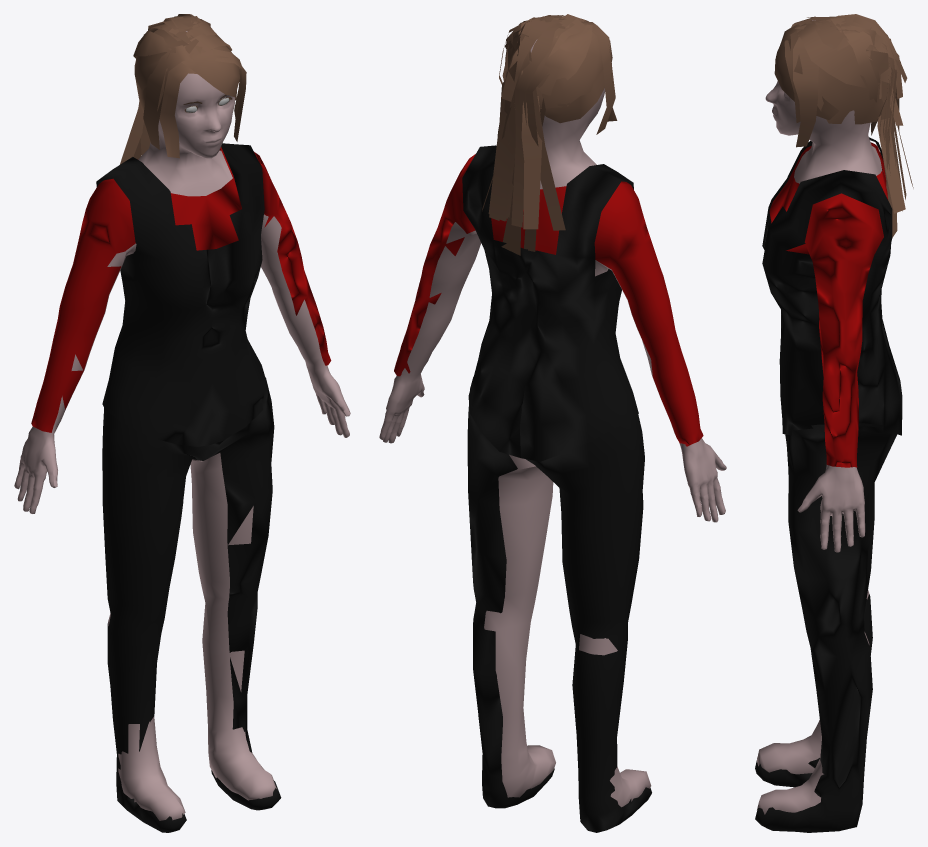
Rendered from character_Rig_Tpose (2).fbx.
The picture shows the model from 3 angles, left to right: view 1: azimuth 30°, elevation 25°; view 2: azimuth 150°, elevation 25°; view 3: azimuth 270°, elevation 25°; orthographic projection. The views are drawn at different scales.
Parts seen in each view (by area): view 1: polySurface39, polySurface40, character_GEO, polySurface36, polySurface26, polySurface24, polySurface32, polySurface7, polySurface17, polySurface27; view 2: polySurface40, polySurface39, character_GEO, polySurface36, polySurface28, polySurface21, polySurface27, polySurface7, polySurface17, polySurface5, polySurface12, polySurface26 (+4 smaller); view 3: polySurface40, polySurface39, polySurface36, character_GEO, polySurface18, polySurface2, polySurface19, polySurface6, polySurface20, polySurface32, polySurface11, polySurface16 (+7 smaller).
Boxes of the visible parts, box(x1,y1,x2,y2) form: polySurface39: box(96, 143, 265, 446); polySurface40: box(102, 377, 281, 832); character_GEO: box(14, 31, 350, 820); polySurface36: box(31, 147, 331, 432); polySurface26: box(143, 45, 193, 149); polySurface24: box(157, 62, 196, 158); polySurface32: box(181, 52, 239, 100); polySurface7: box(120, 24, 198, 164); polySurface17: box(133, 31, 175, 58); polySurface27: box(134, 52, 169, 91); polySurface40: box(467, 377, 651, 832); polySurface39: box(462, 145, 638, 461); character_GEO: box(379, 39, 726, 807); polySurface36: box(394, 154, 703, 446); polySurface28: box(511, 23, 562, 227); polySurface21: box(521, 70, 542, 229); polySurface27: box(537, 31, 603, 108); polySurface7: box(532, 14, 586, 230); polySurface17: box(537, 24, 592, 95); polySurface5: box(489, 17, 534, 220); polySurface12: box(536, 70, 604, 123); polySurface26: box(581, 21, 615, 134); polySurface40: box(755, 423, 897, 832); polySurface39: box(762, 137, 902, 435); polySurface36: box(769, 142, 888, 467); character_GEO: box(756, 20, 881, 814); polySurface18: box(817, 67, 892, 124); polySurface2: box(797, 20, 880, 88); polySurface19: box(793, 20, 818, 147); polySurface6: box(877, 66, 905, 213); polySurface20: box(815, 21, 890, 119); polySurface32: box(774, 24, 838, 119); polySurface11: box(830, 17, 878, 102); polySurface16: box(784, 31, 802, 122).
Bounding box in the file's own units: 66.72 × 155 × 28.23.
